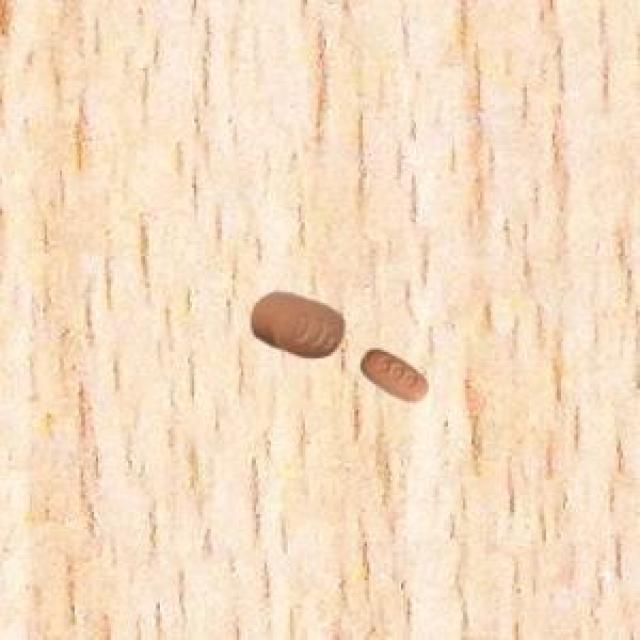Biogesic: (228, 271, 355, 374), (355, 334, 446, 412)
